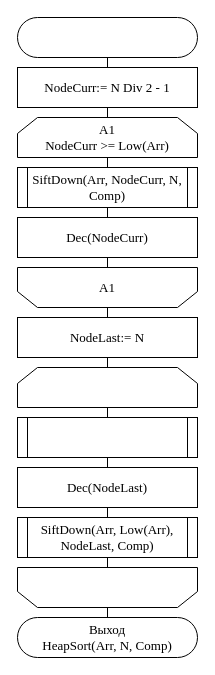
The diagram is 215 pixels wide and 675 high, and some of its shapes have lost their labels. Each missing label, with the box of its shape:
A2: (16, 566, 198, 608)
A2 NodeLast > Low(Arr): (16, 366, 198, 408)
Swap(Arr[Low(Arr)], Arr[NodeLast]): (16, 416, 198, 458)
Вход HeapSort(Arr, N, Comp): (16, 16, 198, 58)
